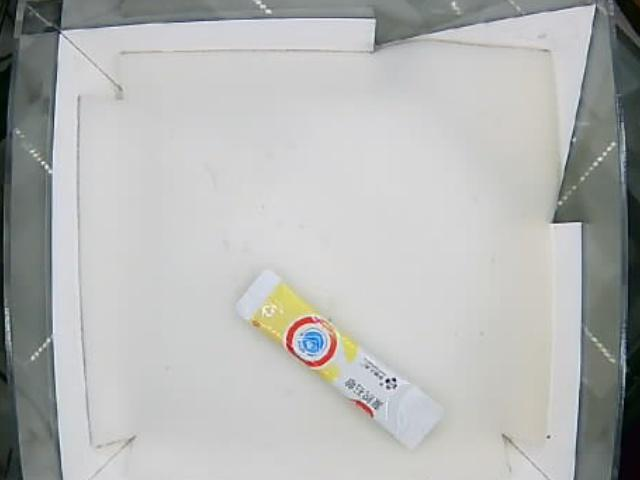Medicine: (231, 272, 445, 444)
